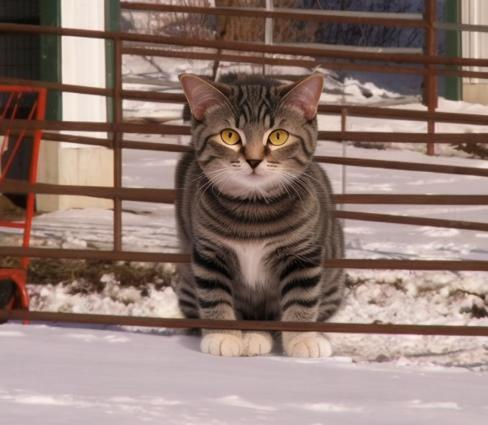cat: (176, 74, 345, 356)
horse: (176, 139, 294, 353)
